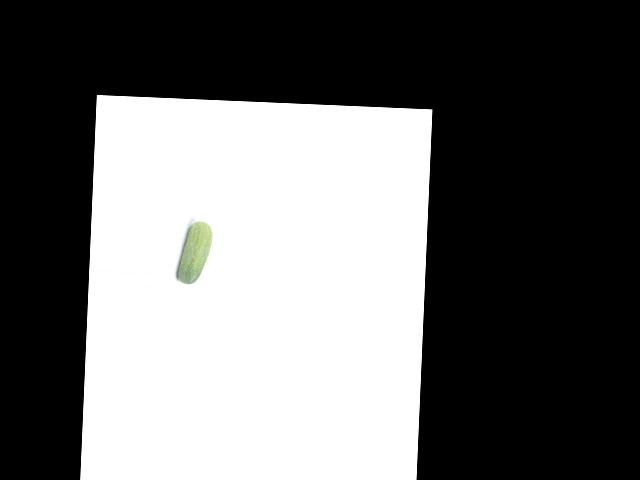cucumber: (176, 220, 212, 285)
